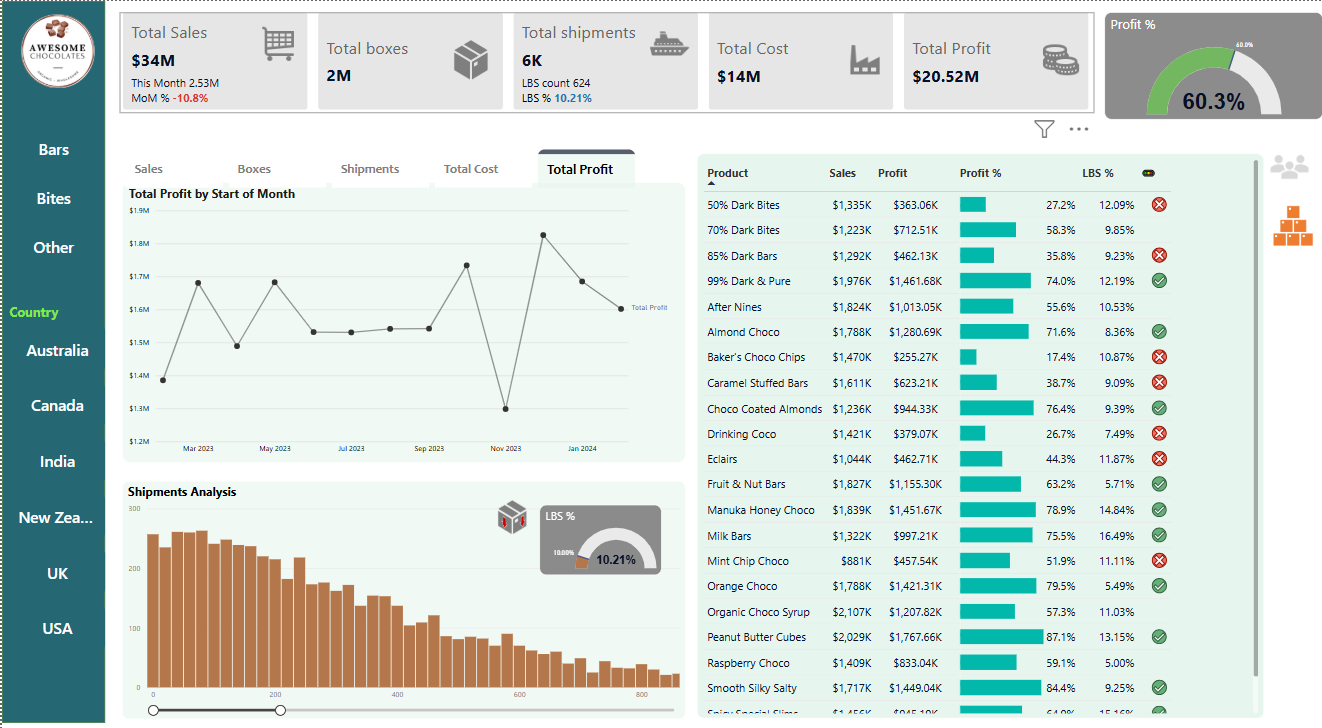

The dashboard page shown, as its layout file describes it:
{"tool":"powerbi","page":{"name":"Sales Report","canvas":[1920,1080],"ordinal":2},"visuals":[{"type":"shape","box":[0,0,150,1050],"z":0},{"type":"cardVisual","fields":{"Data":["_Messures.Total Sales","_Messures.Total boxes","_Messures.Total shipments","_Messures.Total Cost","_Messures.Total Profit"]},"box":[170.8,16.9,1418,147.2],"z":1000},{"type":"gauge","fields":{"Y":["_Messures.Profit %"]},"box":[1603.1,16.5,317.3,155.9],"z":2000},{"type":"lineChart","fields":{"Y":["_Messures.Total Profit"],"Category":["calendar.Start of Month"]},"box":[175,263.3,820,408.3],"z":3000},{"type":"advancedSlicerVisual","fields":{"Values":["Measure Selector.Measure Selector"]},"box":[174,210,756,66],"z":4000},{"type":"columnChart","title":"Shipments Analysis","fields":{"Category":["shipments.Boxes (bins)"],"Y":["_Messures.Total shipments"]},"box":[175,698.3,820,346.7],"z":5000},{"type":"gauge","fields":{"Y":["_Messures.LBS %"]},"box":[782.7,733.3,177.3,102.7],"z":6000},{"type":"image","box":[693.3,716,98.7,69.3],"z":7000},{"type":"tableEx","title":"Product table","fields":{"Values":["products.Product","_Messures.Total Sales","_Messures.Total Profit","_Messures.Profit %","_Messures.LBS %","_Messures.Profit Target Indicatoe"]},"box":[1011.7,221.7,825,821.7],"z":9000},{"type":"image","title":"product icon","box":[1836.7,281.7,83.3,90],"z":11000},{"type":"image","box":[10,15,140,116.7],"z":12000},{"type":"advancedSlicerVisual","fields":{"Values":["products.Category"]},"box":[0,178.3,150,215],"z":13000},{"type":"advancedSlicerVisual","title":"Country","fields":{"Values":["locations.Geo"]},"box":[5,440,150,516.7],"z":14000},{"type":"image","title":"People Dull","box":[1836.7,195,73.3,93.3],"z":16000}]}

Visuals, with their boxes on the page's 1920x1080 design canvas (x1, y1, x2, y2). These are canvas units, not pixel positions in the 1322x728 screenshot, which may show the page scaled, cropped or inside an application window:
shape: bbox=(0, 0, 150, 1050)
cardVisual - _Messures.Total Sales x _Messures.Total boxes: bbox=(171, 17, 1589, 164)
gauge - _Messures.Profit %: bbox=(1603, 16, 1920, 172)
lineChart - _Messures.Total Profit x calendar.Start of Month: bbox=(175, 263, 995, 672)
advancedSlicerVisual - Measure Selector.Measure Selector: bbox=(174, 210, 930, 276)
"Shipments Analysis" columnChart: bbox=(175, 698, 995, 1045)
gauge - _Messures.LBS %: bbox=(783, 733, 960, 836)
image: bbox=(693, 716, 792, 785)
"Product table" tableEx: bbox=(1012, 222, 1837, 1043)
"product icon" image: bbox=(1837, 282, 1920, 372)
image: bbox=(10, 15, 150, 132)
advancedSlicerVisual - products.Category: bbox=(0, 178, 150, 393)
"Country" advancedSlicerVisual: bbox=(5, 440, 155, 957)
"People Dull" image: bbox=(1837, 195, 1910, 288)
